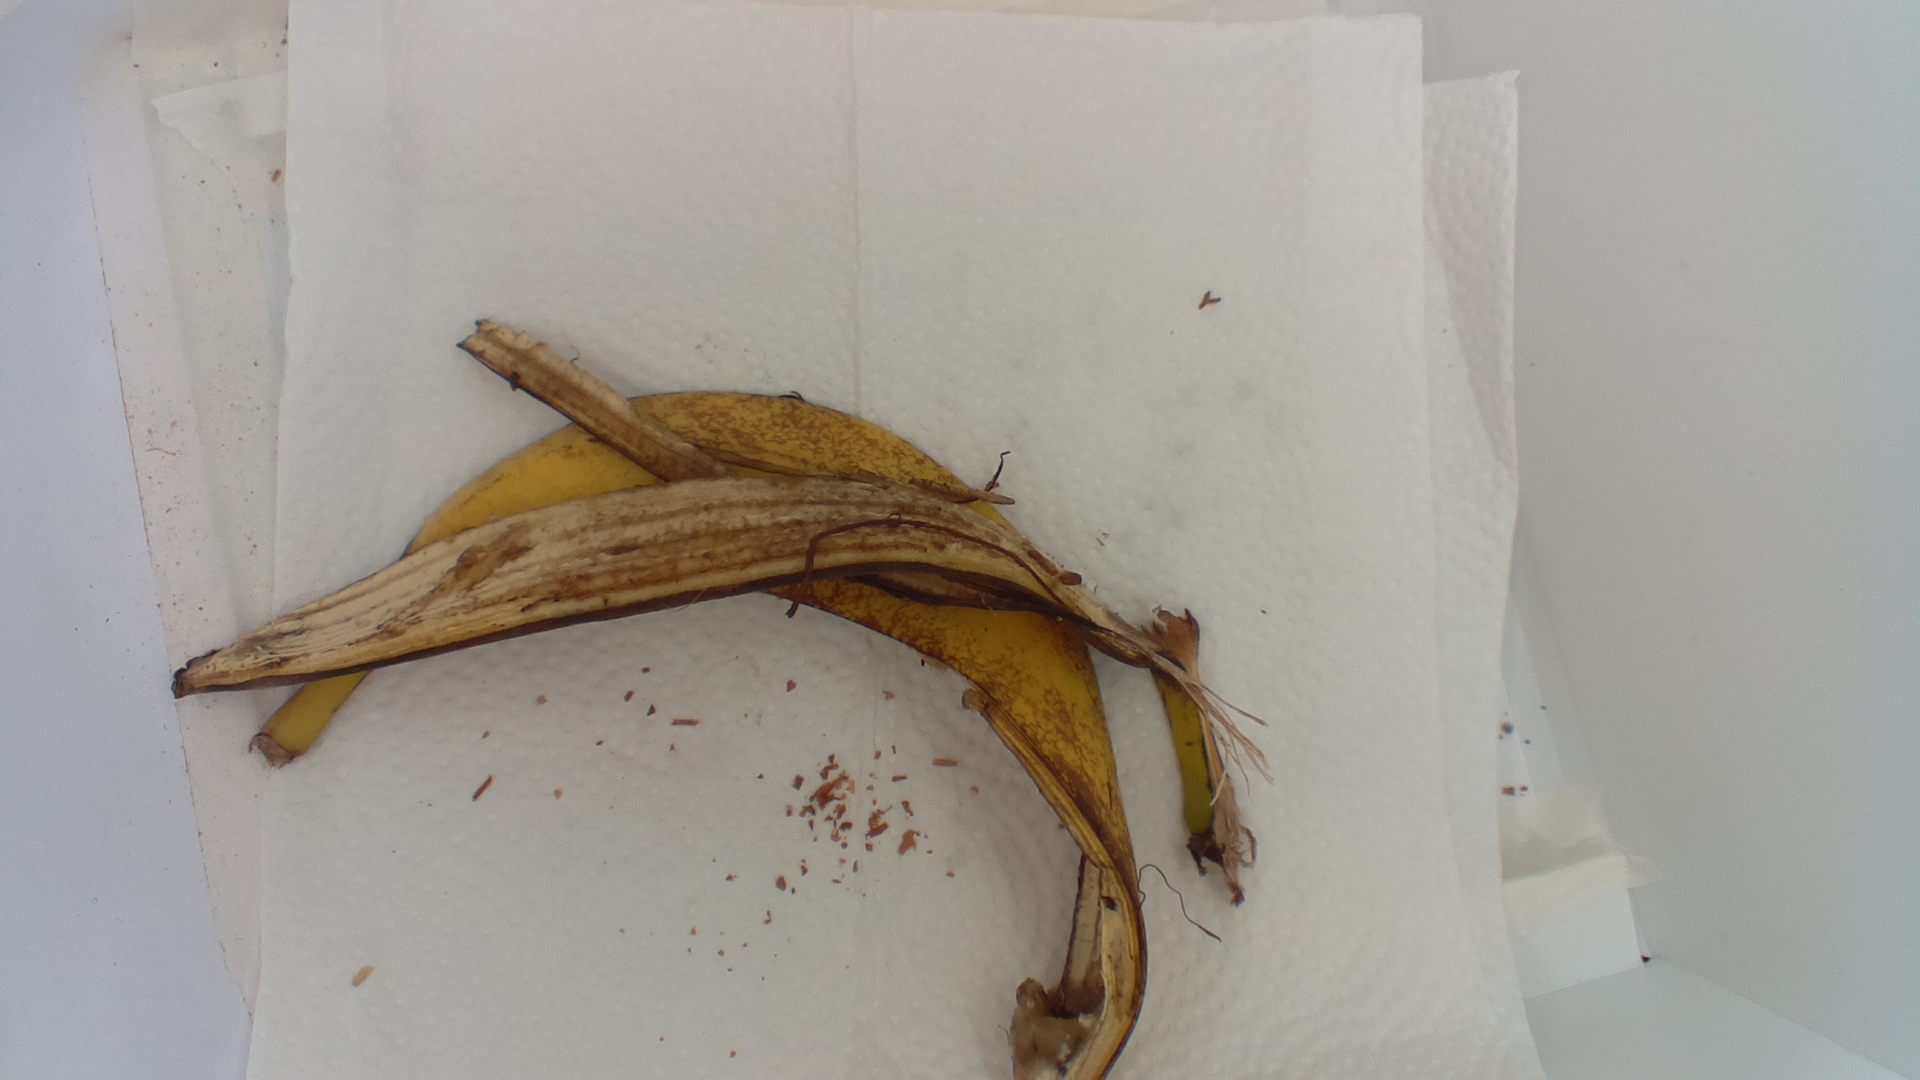fruit: (171, 313, 1266, 1080)
